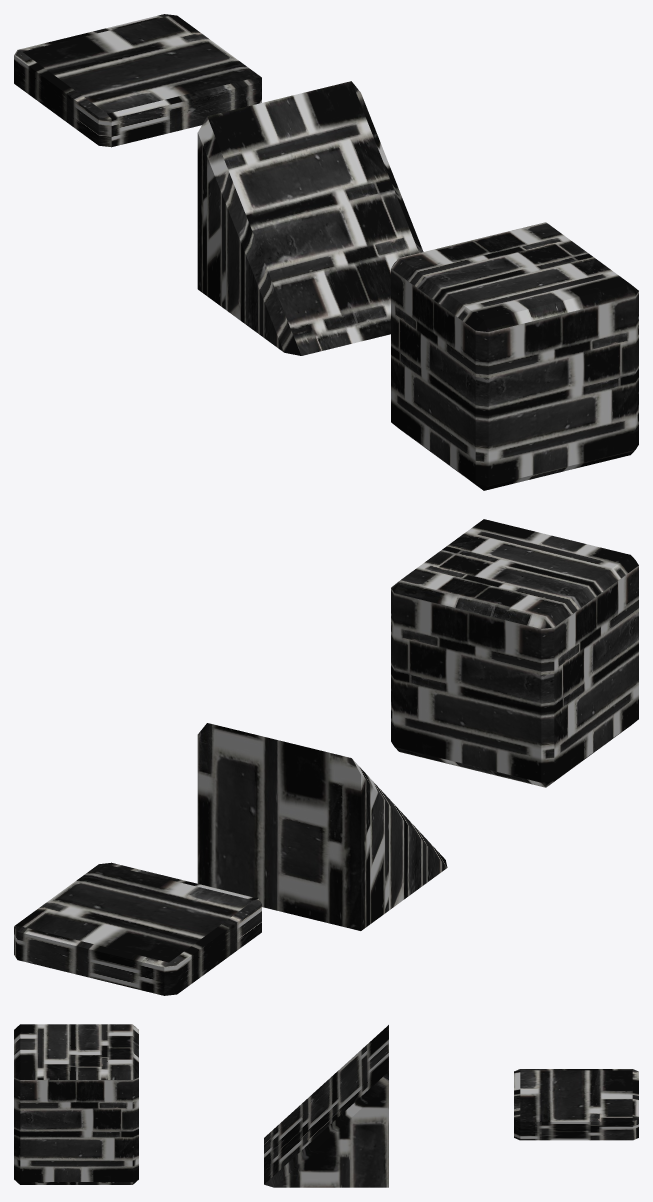
File: Metrochrome-blocks-v1.glb
The picture shows the model from 3 angles, top to bottom: view 1: azimuth 30°, elevation 25°; view 2: azimuth 150°, elevation 25°; view 3: azimuth 270°, elevation 25°; orthographic projection. The views are drawn at different scales.
Visible parts, largest first — view 1: block, ramp, platform; view 2: block, ramp, platform; view 3: block, ramp, platform.
Boxes of the visible parts, bbox=[...] form: block: bbox=[391, 222, 638, 490]; ramp: bbox=[197, 81, 423, 355]; platform: bbox=[14, 14, 261, 147]; block: bbox=[391, 519, 638, 787]; ramp: bbox=[197, 723, 447, 930]; platform: bbox=[14, 862, 261, 995]; block: bbox=[14, 1024, 138, 1184]; ramp: bbox=[264, 1025, 388, 1187]; platform: bbox=[514, 1069, 638, 1140].
Size of what is drawn, in the model's own units: 1 by 1 by 5.
2 materials, 2 textured.
